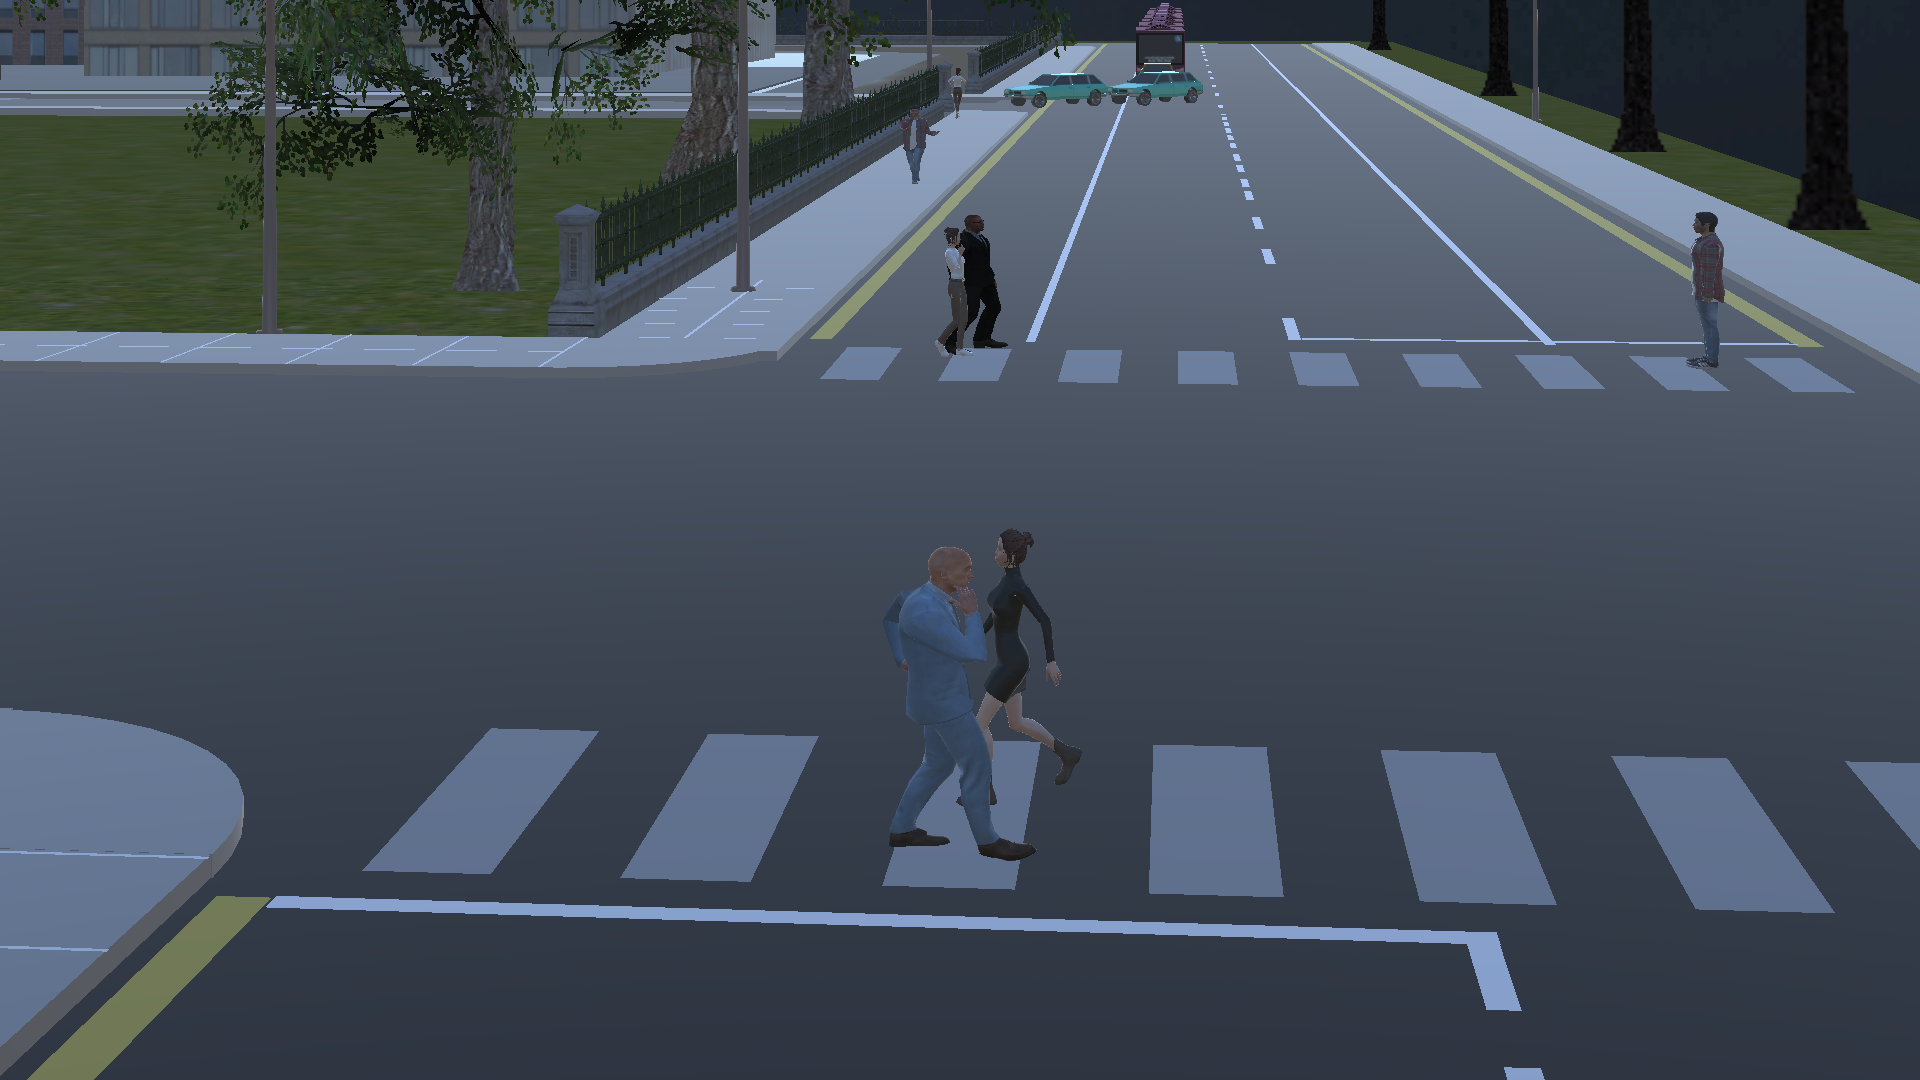pedestrian: (873, 513, 986, 883), (976, 492, 1091, 802), (1677, 196, 1741, 378), (963, 202, 1036, 354), (933, 216, 976, 368), (893, 98, 933, 197), (946, 60, 967, 125)
